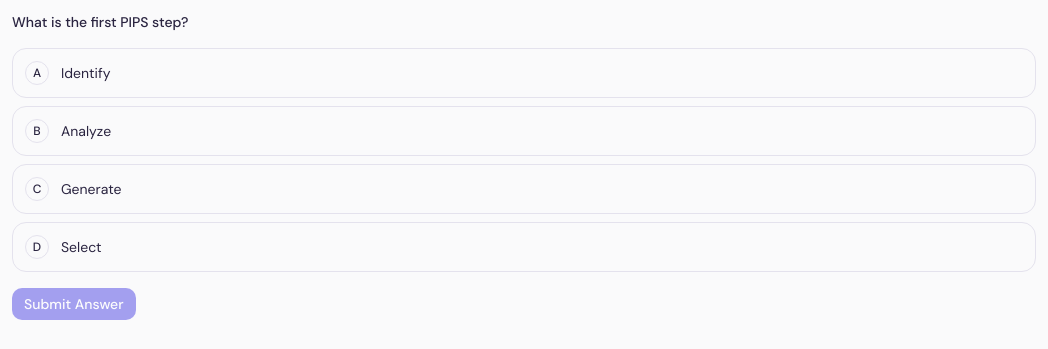
Test case: TrainingMultipleChoice › shows "Correct!" feedback for right answer
Click the text "Identify". click: click(86, 73)
box: [61,64,110,82]
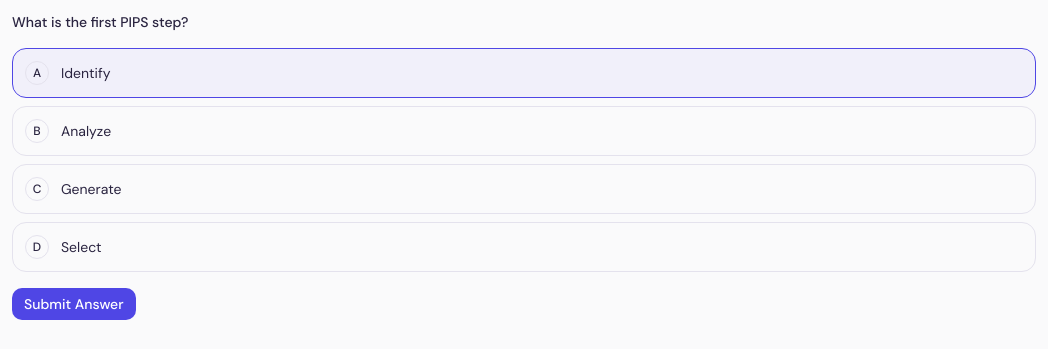
Click the button "Submit Answer". click: click(74, 304)
box: [12,288,136,320]
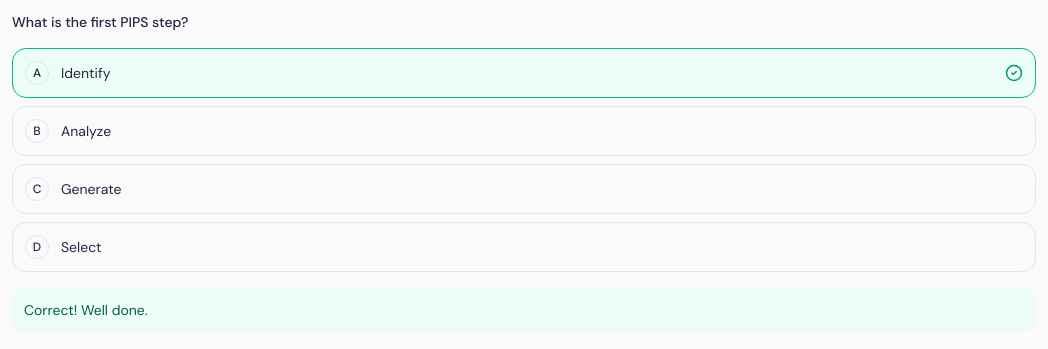
Result: the message shows "Correct" at [24,301,148,319]
